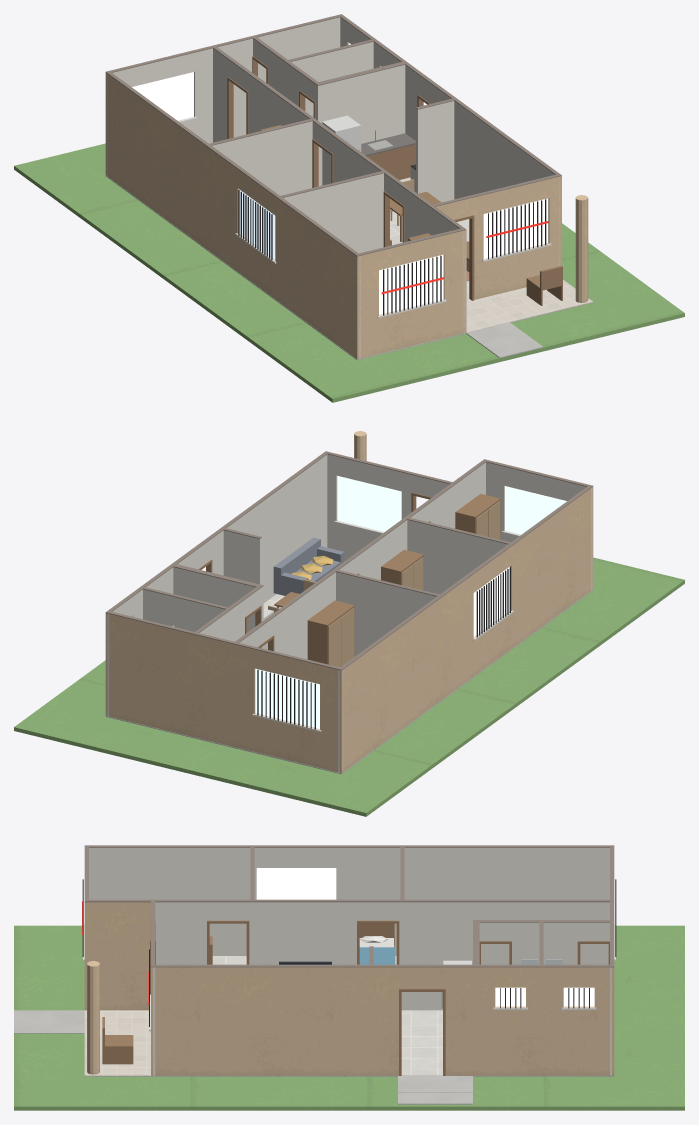
File: casa_creador_interior.glb
The picture shows the model from 3 angles, top to bottom: view 1: azimuth 30°, elevation 25°; view 2: azimuth 150°, elevation 25°; view 3: azimuth 270°, elevation 25°; orthographic projection. The views are drawn at different scales.
Visible parts, largest first — view 1: FG_CasaCreador_Interior; view 2: FG_CasaCreador_Interior; view 3: FG_CasaCreador_Interior.
Boxes of the visible parts, x1,y1,x2,y2 form: FG_CasaCreador_Interior: [14, 14, 684, 402]; FG_CasaCreador_Interior: [14, 431, 684, 816]; FG_CasaCreador_Interior: [14, 845, 684, 1110].
Bounding box in the file's own units: 9.7 × 3.02 × 15.2.
Materials: 28 (7 with a texture image).
